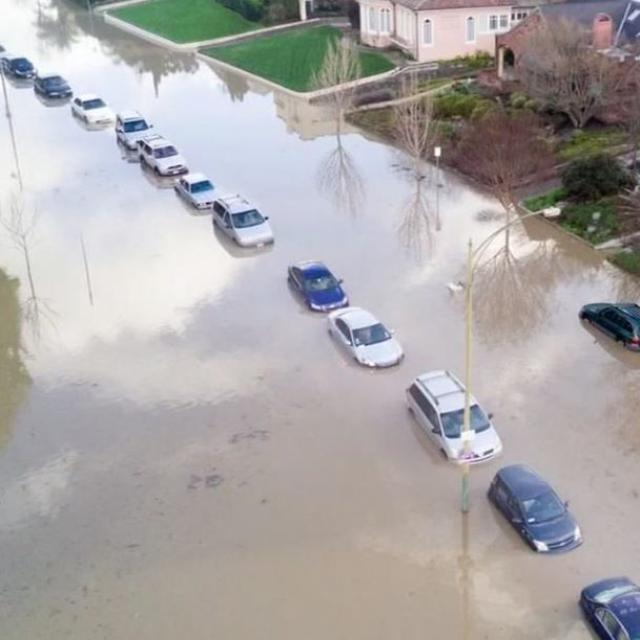flooded_areas: (0, 13, 624, 639)
